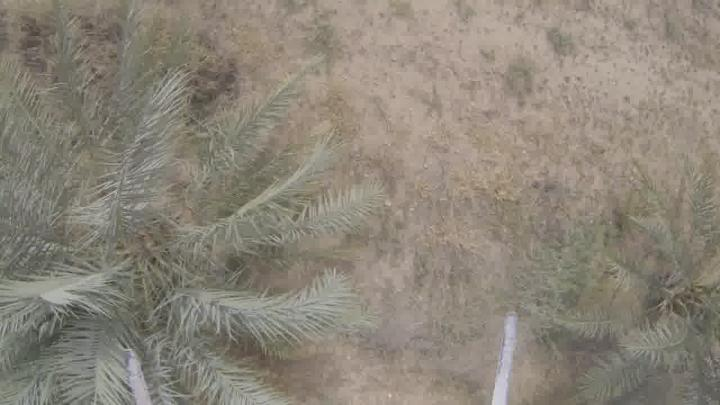Date-Palm-Crown: (0, 109, 282, 404), (606, 204, 719, 386)
